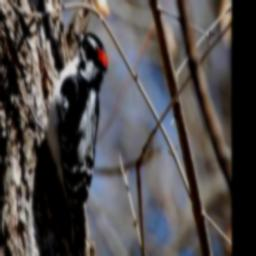Woodpecker: (44, 25, 110, 256)
